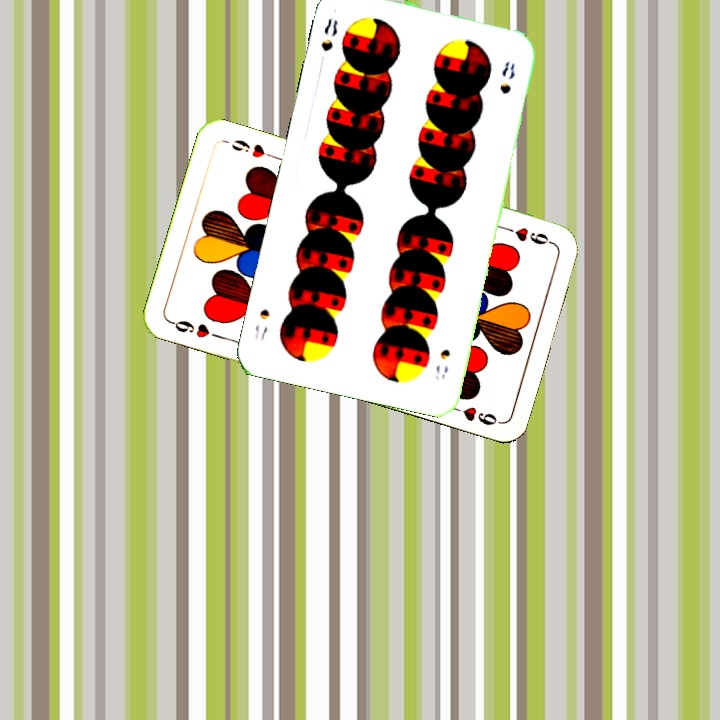H9: (497, 222, 555, 248), (166, 316, 223, 342)
S8: (317, 15, 341, 54), (431, 345, 453, 383)
